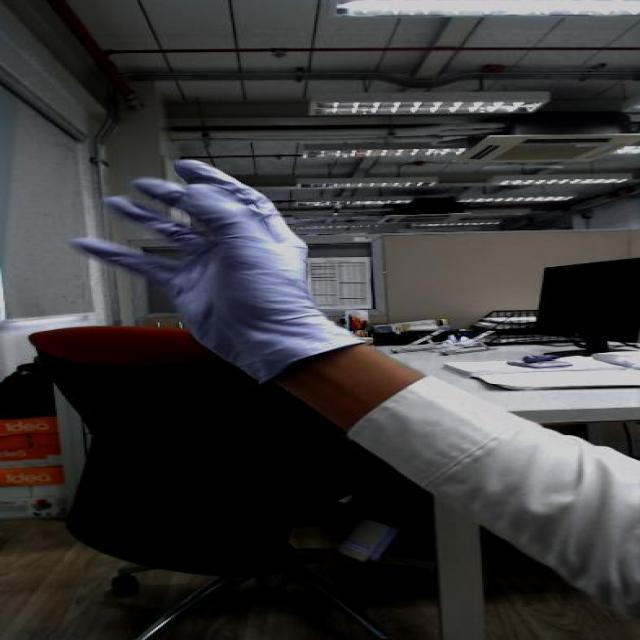with_gloves: (72, 154, 328, 321)
